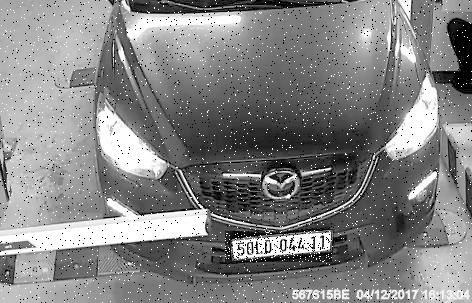License-plate: (226, 232, 333, 263)
